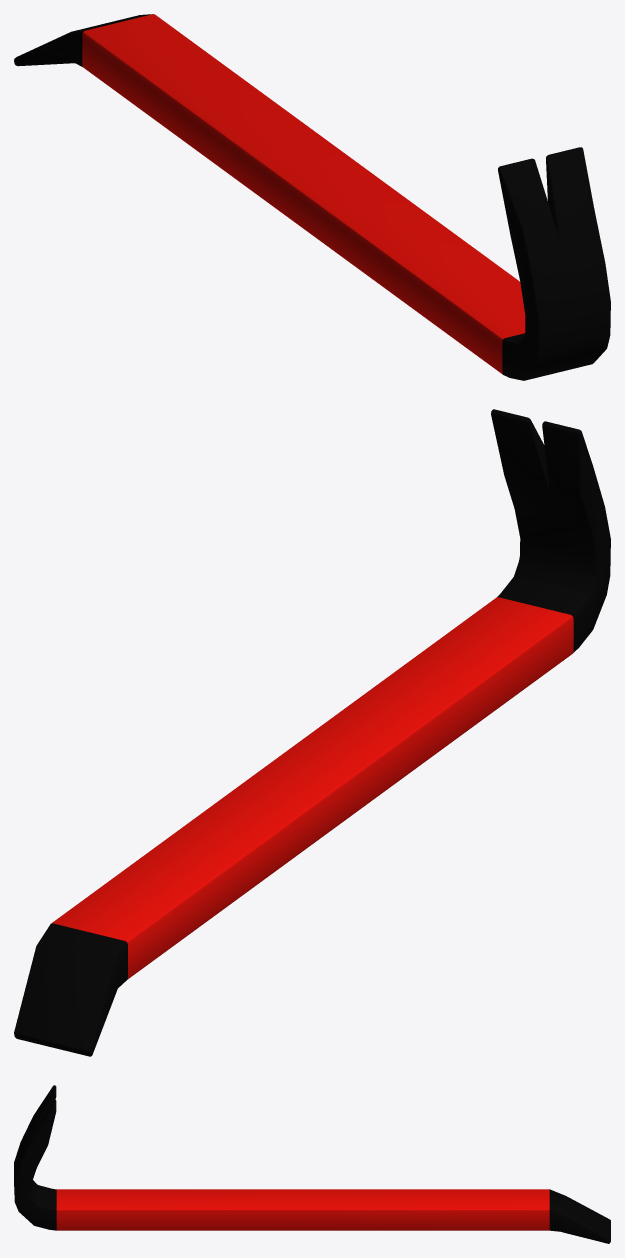
The model's file is M_Crowbar.fbx.
3 renders of one model, top to bottom at view 1: azimuth 30°, elevation 25°; view 2: azimuth 150°, elevation 25°; view 3: azimuth 270°, elevation 25°, orthographic. The views are drawn at different scales.
Visible parts, largest first — view 1: Crowbar; view 2: Crowbar; view 3: Crowbar.
Boxes of the visible parts, x1,y1,x2,y2 form: Crowbar: (14, 14, 610, 380); Crowbar: (14, 409, 610, 1056); Crowbar: (14, 1085, 610, 1243).
Bounding box in the file's own units: 0.1493 × 0.3599 × 1.37.
